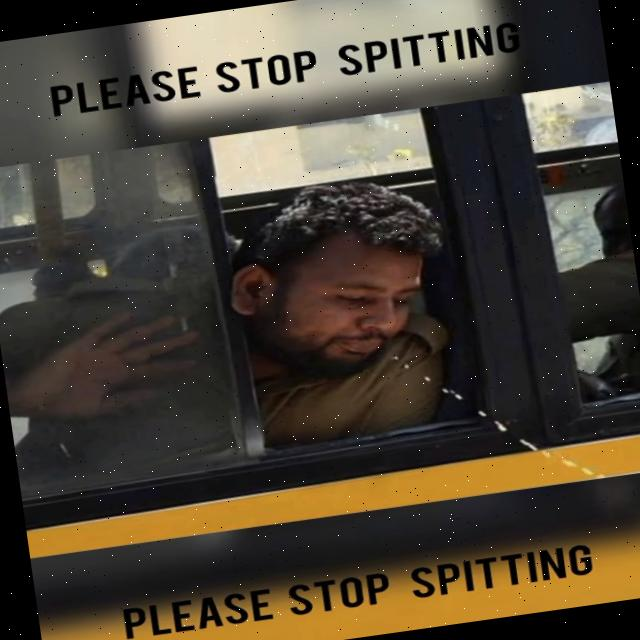spit: (308, 265, 640, 513)
